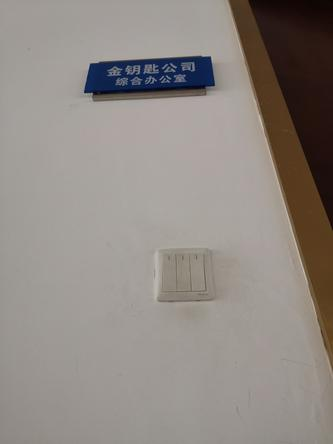switch: (188, 248, 209, 297), (174, 247, 194, 298), (159, 249, 179, 295)
